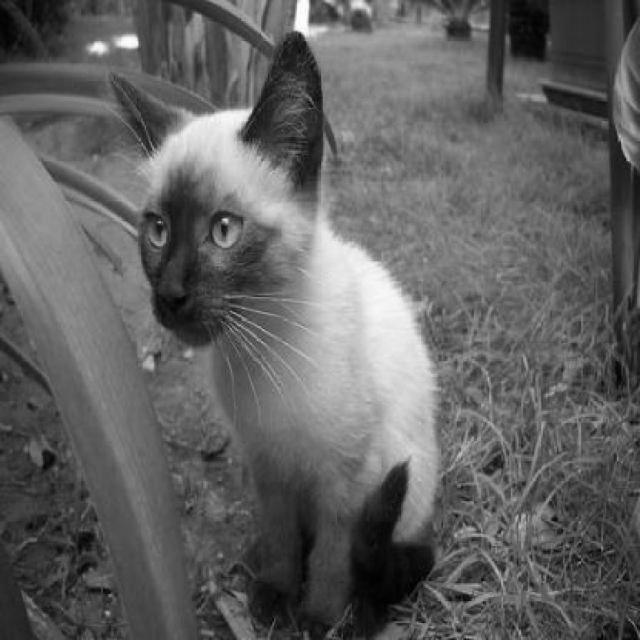Cat: (106, 30, 440, 632)
